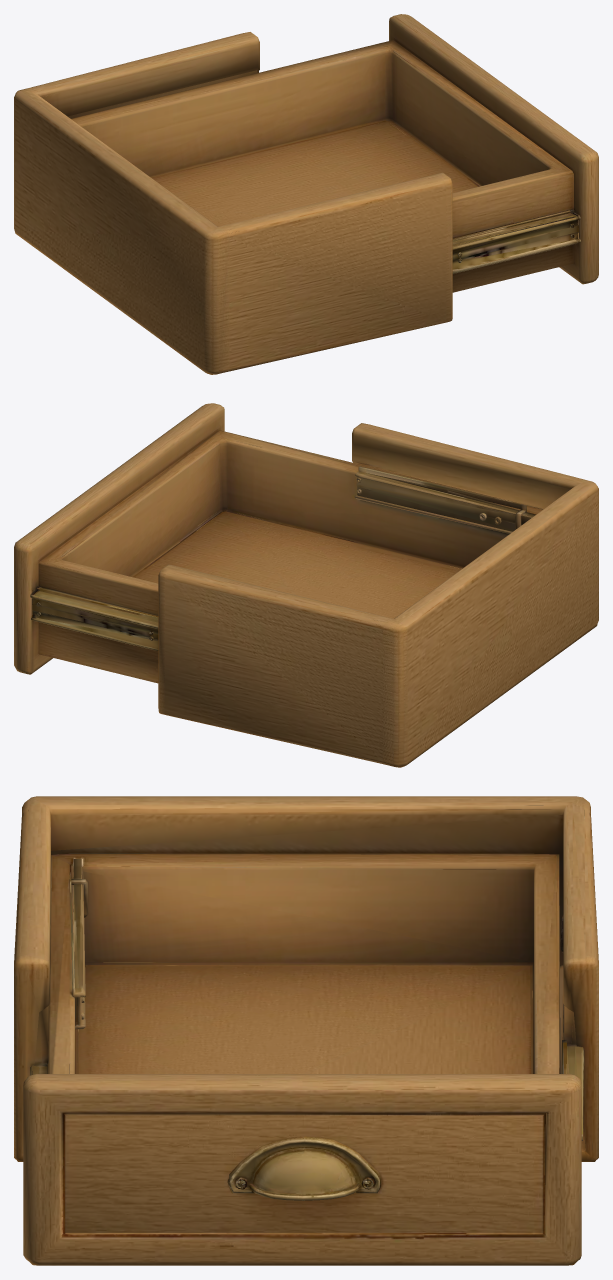
Rendered from drawer-capture-lod1.glb.
3 views of the same model, one above another, from view 1: azimuth 30°, elevation 25°; view 2: azimuth 150°, elevation 25°; view 3: azimuth 270°, elevation 25° (orthographic). The views are drawn at different scales.
Parts seen in each view (by area): view 1: tripo_part_0, tripo_part_4, tripo_part_10, tripo_part_18; view 2: tripo_part_0, tripo_part_4, tripo_part_10, tripo_part_13, tripo_part_2, tripo_part_6; view 3: tripo_part_4, tripo_part_10, tripo_part_0, tripo_part_13, tripo_part_2.
Part boxes in pixels (<box>): tripo_part_0: <box>14,32,452,374</box>; tripo_part_4: <box>71,40,573,292</box>; tripo_part_10: <box>389,14,598,284</box>; tripo_part_18: <box>452,209,580,273</box>; tripo_part_0: <box>158,423,598,767</box>; tripo_part_4: <box>38,430,542,683</box>; tripo_part_10: <box>14,403,224,674</box>; tripo_part_13: <box>355,466,535,531</box>; tripo_part_2: <box>30,587,158,650</box>; tripo_part_6: <box>354,474,526,533</box>; tripo_part_4: <box>48,853,560,1073</box>; tripo_part_10: <box>23,1074,581,1265</box>; tripo_part_0: <box>14,796,598,1161</box>; tripo_part_13: <box>69,859,85,1025</box>; tripo_part_2: <box>562,1040,584,1140</box>.
Bounding box in the file's own units: 1 × 0.3307 × 0.863.
Materials: 96 (96 with a texture image).
